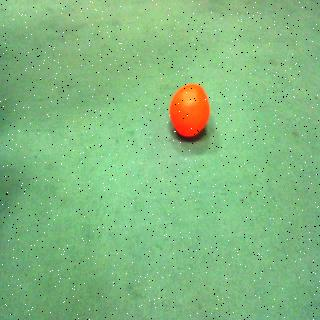orange: (167, 81, 213, 145)
